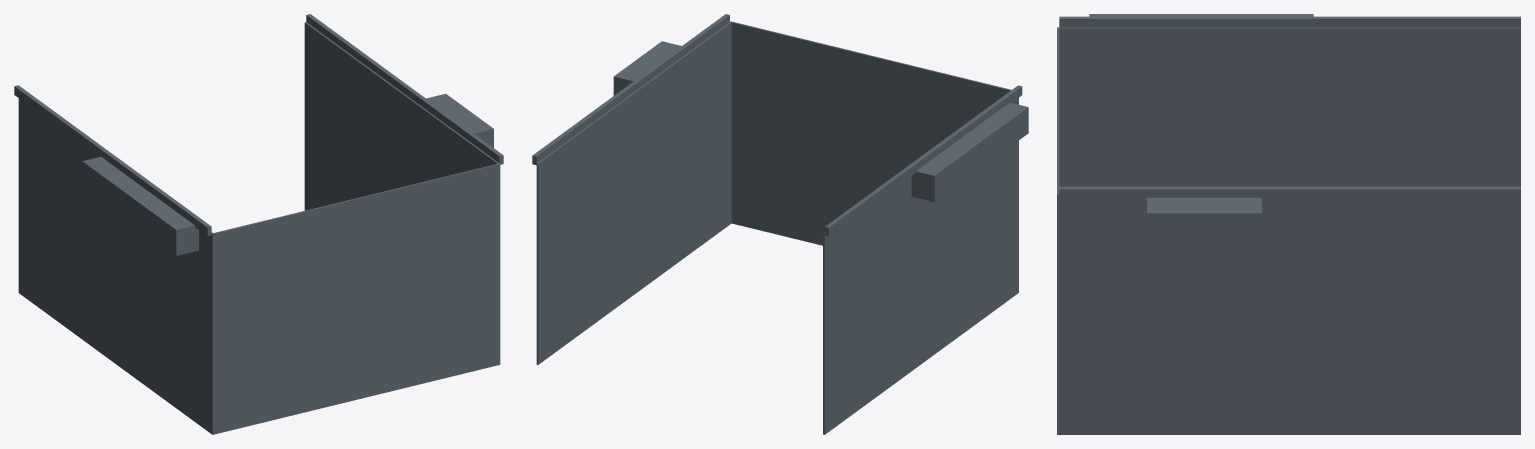
The model's file is env_fallow_stern.fbx.
3 views of the same model, side by side, from view 1: azimuth 30°, elevation 25°; view 2: azimuth 150°, elevation 25°; view 3: azimuth 270°, elevation 25° (orthographic). The views are drawn at different scales.
Parts seen in each view (by area): view 1: env_fallow_stern; view 2: env_fallow_stern; view 3: env_fallow_stern.
Boxes of the visible parts, bbox=[...] form: env_fallow_stern: bbox=[14, 14, 503, 434]; env_fallow_stern: bbox=[532, 14, 1028, 434]; env_fallow_stern: bbox=[1057, 14, 1520, 434].
Bounding box in the file's own units: 8200 × 4760 × 8060.
